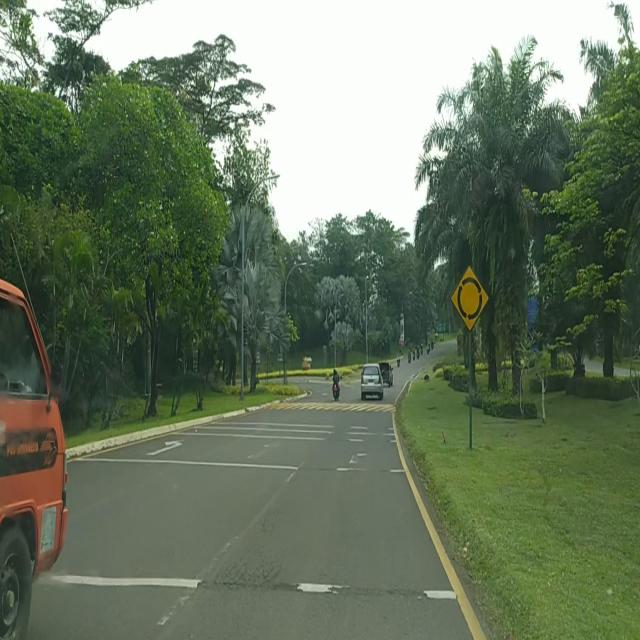Drain Hole: (197, 551, 285, 589)
